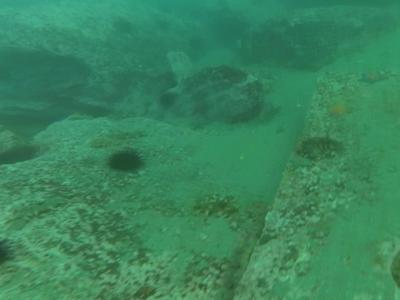holothurian: (16, 195, 61, 228), (299, 132, 346, 158), (188, 195, 240, 218), (94, 125, 148, 144)
urchin: (107, 148, 146, 175), (2, 234, 14, 271)
